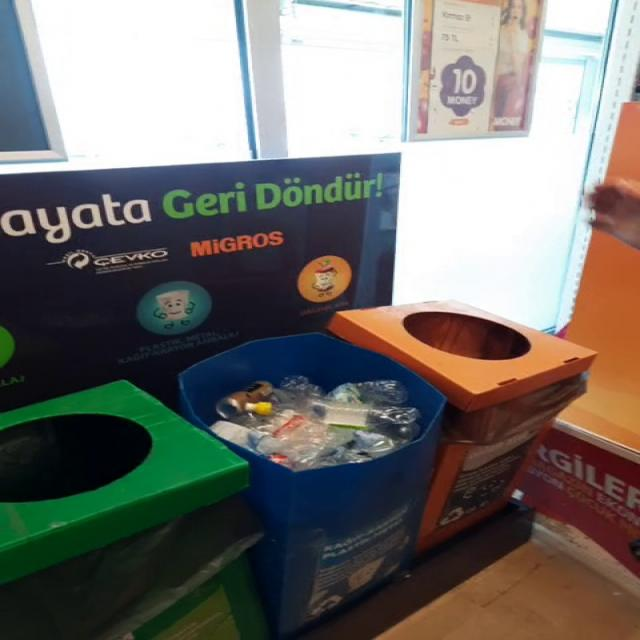bin: (180, 302, 596, 639), (0, 381, 269, 640)
metal: (216, 382, 273, 420)
